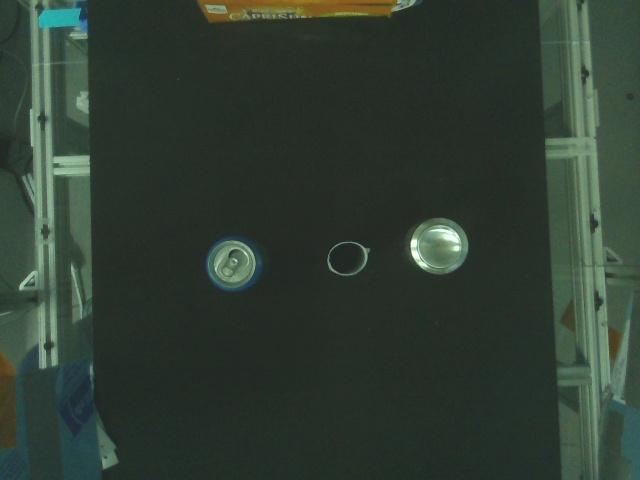cardboard: (193, 0, 423, 26)
metal: (404, 218, 468, 275), (207, 234, 268, 291)
plastic: (328, 241, 370, 276)
